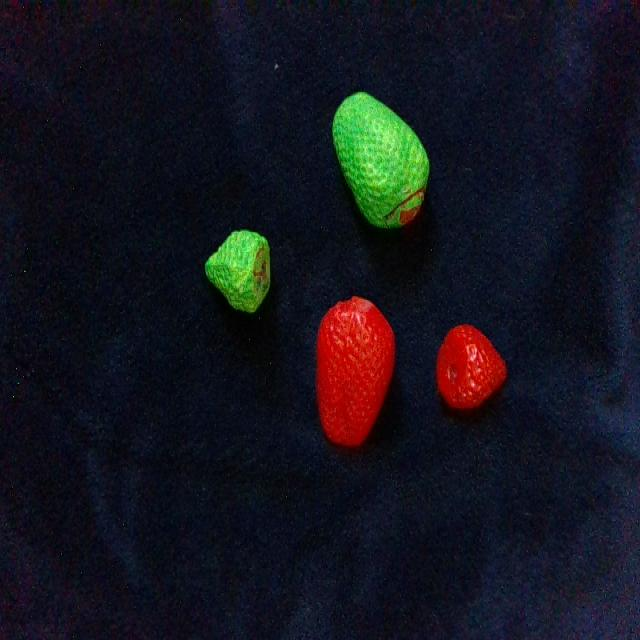chica_roja: (438, 325, 506, 408)
grande_roja: (316, 296, 394, 444)
verde: (332, 92, 429, 228), (207, 231, 270, 311)
